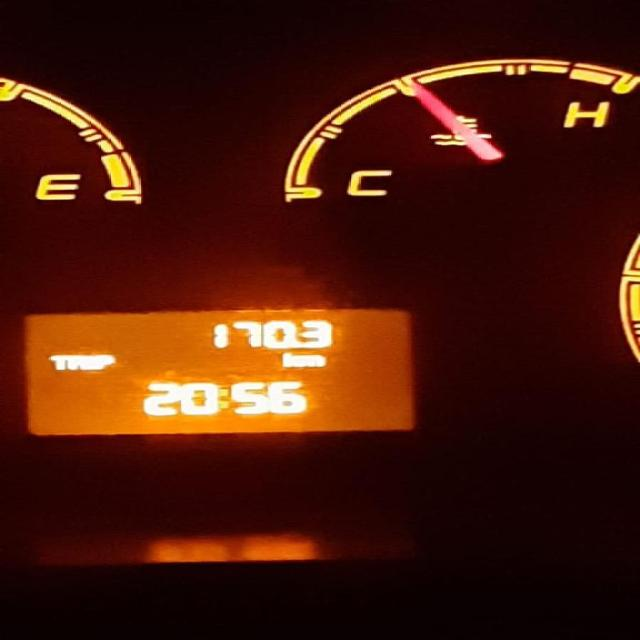odometer: (12, 302, 431, 443)
